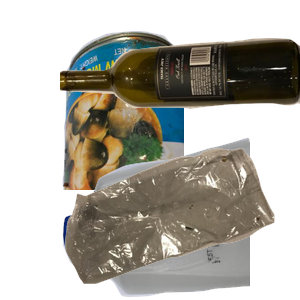glass: (60, 36, 300, 147)
metal: (60, 28, 300, 208)
plastic: (60, 135, 300, 300)
trash: (63, 145, 300, 300)
